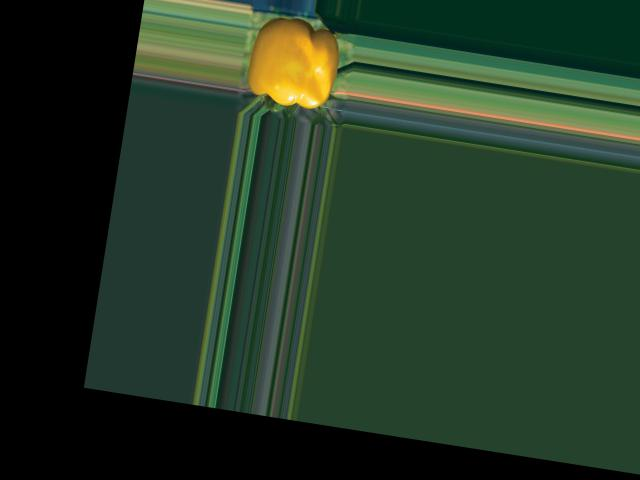bell_pepper: (237, 10, 351, 121)
